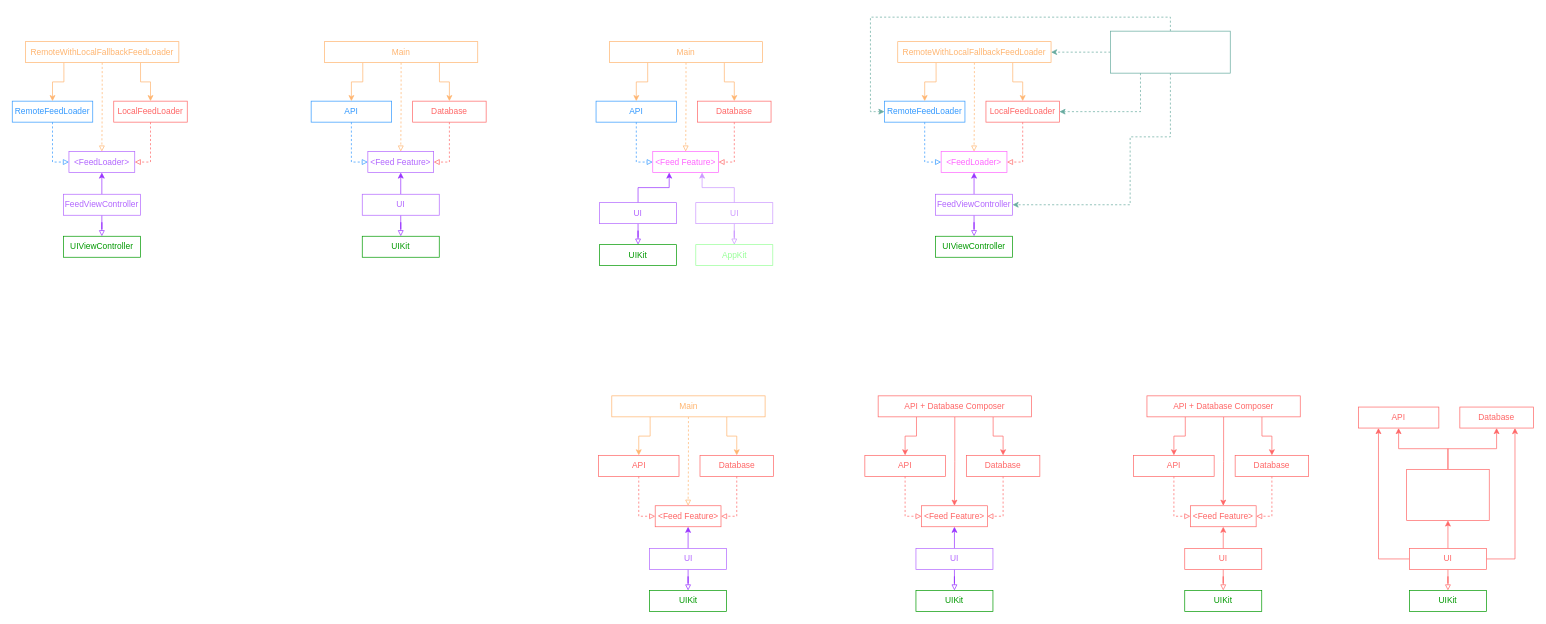
This 1546x624 diagram has some shape labels left out. The shapes that lost their labels are listed below. From the top down, each one's centre as x and y in pixels, then its label:
At (1170,51): "Feed Assembler/Builder/Factory".
At (1447,494): "Model / ViewModel / Presenter".
